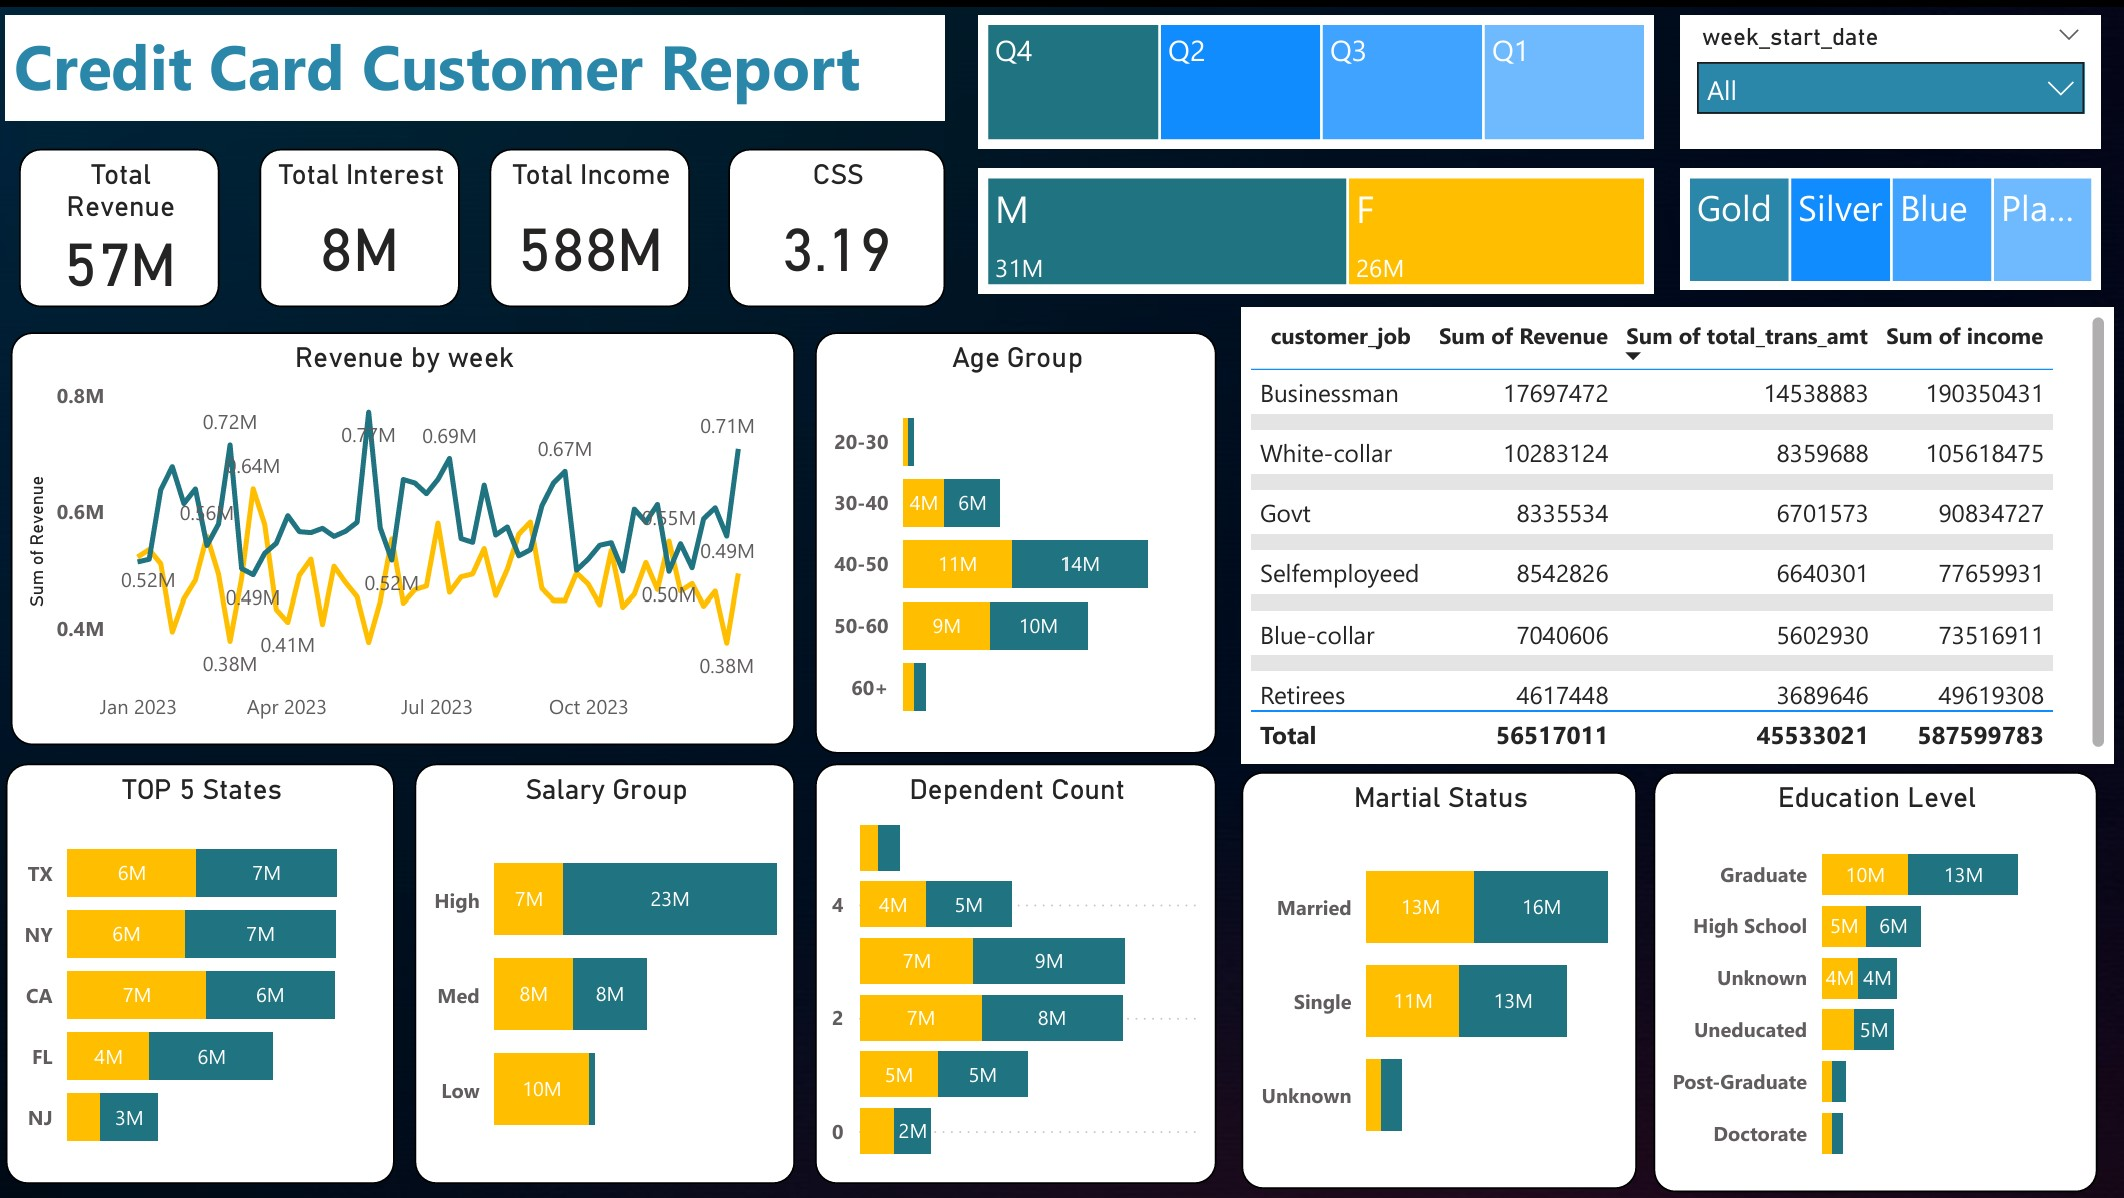

This screenshot's page, from the dashboard's own definition file:
{"tool":"powerbi","page":{"name":"CC Customer","canvas":[1280,720],"ordinal":2},"visuals":[{"type":"slicer","fields":{"Values":["public cc_detail.week_start_date"]},"box":[1013.3,5,251.7,80],"z":0},{"type":"treemap","fields":{"Group":["public cc_detail.card_category"],"Values":["Avg(public cc_detail.client_num)"]},"box":[1013.3,96.7,251.7,73.3],"z":2000},{"type":"lineChart","title":"Revenue by week","fields":{"Series":["public cust_detail.gender"],"Y":["Sum(public cc_detail.Revenue)"],"Category":["public cc_detail.week_start_date.Variation.Date Hierarchy.Year","public cc_detail.week_start_date.Variation.Date Hierarchy.Month","public cc_detail.week_start_date.Variation.Date Hierarchy.Day"]},"box":[13.3,195,470,246.7],"z":3000},{"type":"barChart","title":"TOP 5 States","fields":{"Y":["Sum(public cc_detail.Revenue)"],"Category":["public cust_detail.state_cd"],"Series":["public cust_detail.gender"]},"box":[10,453.3,233.3,251.7],"z":4000},{"type":"tableEx","title":"jj","fields":{"Values":["public cust_detail.customer_job","Sum(public cc_detail.Revenue)","Sum(public cc_detail.total_trans_amt)","Sum(public cust_detail.income)"]},"box":[750,180,523.3,273.3],"z":5000},{"type":"card","title":"Total Revenue","fields":{"Values":["Sum(public cc_detail.Revenue)"]},"box":[18.3,85,120,95],"z":6000},{"type":"card","title":"Total Interest","fields":{"Values":["Sum(public cc_detail.interest_earned)"]},"box":[161.7,85,120,95],"z":7000},{"type":"card","title":"Total Income","fields":{"Values":["Sum(public cust_detail.income)"]},"box":[300,85,120,95],"z":8000},{"type":"card","title":"CSS","fields":{"Values":["Avg(public cust_detail.cust_satisfaction_score)"]},"box":[443.3,85,130,95],"z":9000},{"type":"textbox","box":[10,5,563.3,63.3],"z":10000},{"type":"treemap","fields":{"Group":["public cc_detail.qtr"],"Values":["CountNonNull(public cc_detail.client_num)"]},"box":[593.3,5,403.3,80],"z":11000},{"type":"barChart","title":"Education Level","fields":{"Y":["Sum(public cc_detail.Revenue)"],"Category":["public cust_detail.education_level"],"Series":["public cust_detail.gender"]},"box":[996.7,458.3,266.7,251.7],"z":12000},{"type":"barChart","title":"Martial Status","fields":{"Y":["Sum(public cc_detail.Revenue)"],"Category":["public cust_detail.marital_status"],"Series":["public cust_detail.gender"]},"box":[750,458.3,236.7,250],"z":13000},{"type":"barChart","title":"Age Group","fields":{"Y":["Sum(public cc_detail.Revenue)"],"Category":["public cust_detail.AgeGroup"],"Series":["public cust_detail.gender"]},"box":[495,195,240,251.7],"z":14000},{"type":"barChart","title":"Salary Group","fields":{"Y":["Sum(public cc_detail.Revenue)"],"Category":["public cust_detail.IncomeGroup","public cc_detail.exp_type"],"Series":["public cust_detail.gender"]},"box":[255,453.3,228.3,251.7],"z":15000},{"type":"barChart","title":"Dependent Count","fields":{"Y":["Sum(public cc_detail.Revenue)"],"Category":["public cust_detail.dependent_count"],"Series":["public cust_detail.gender"]},"box":[495,453.3,240,251.7],"z":16000},{"type":"treemap","fields":{"Group":["public cust_detail.gender"],"Values":["Sum(public cc_detail.Revenue)"]},"box":[593.3,96.7,403.3,75],"z":17000}]}

Visuals, with their boxes in screenshot pixels (x1, y1, x2, y2), scaled from the page's 1280x720 canvas onto the 2124x1198 screenshot:
slicer - public cc_detail.week_start_date: {"left": 1681, "top": 8, "right": 2099, "bottom": 141}
treemap - public cc_detail.card_category x Avg(public cc_detail.client_num): {"left": 1681, "top": 161, "right": 2099, "bottom": 283}
"Revenue by week" lineChart: {"left": 22, "top": 324, "right": 802, "bottom": 735}
"TOP 5 States" barChart: {"left": 17, "top": 754, "right": 404, "bottom": 1173}
"jj" tableEx: {"left": 1245, "top": 300, "right": 2113, "bottom": 754}
"Total Revenue" card: {"left": 30, "top": 141, "right": 229, "bottom": 300}
"Total Interest" card: {"left": 268, "top": 141, "right": 467, "bottom": 300}
"Total Income" card: {"left": 498, "top": 141, "right": 697, "bottom": 300}
"CSS" card: {"left": 736, "top": 141, "right": 951, "bottom": 300}
textbox: {"left": 17, "top": 8, "right": 951, "bottom": 114}
treemap - public cc_detail.qtr x CountNonNull(public cc_detail.client_num): {"left": 985, "top": 8, "right": 1654, "bottom": 141}
"Education Level" barChart: {"left": 1654, "top": 763, "right": 2096, "bottom": 1181}
"Martial Status" barChart: {"left": 1245, "top": 763, "right": 1637, "bottom": 1179}
"Age Group" barChart: {"left": 821, "top": 324, "right": 1220, "bottom": 743}
"Salary Group" barChart: {"left": 423, "top": 754, "right": 802, "bottom": 1173}
"Dependent Count" barChart: {"left": 821, "top": 754, "right": 1220, "bottom": 1173}
treemap - public cust_detail.gender x Sum(public cc_detail.Revenue): {"left": 985, "top": 161, "right": 1654, "bottom": 286}
